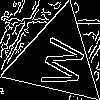W: (31, 34, 87, 91)
